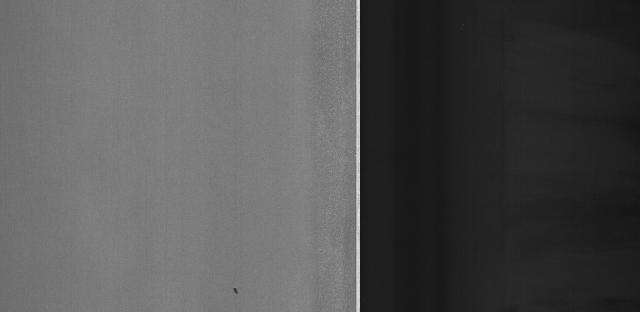inclusion: (227, 279, 246, 299)
